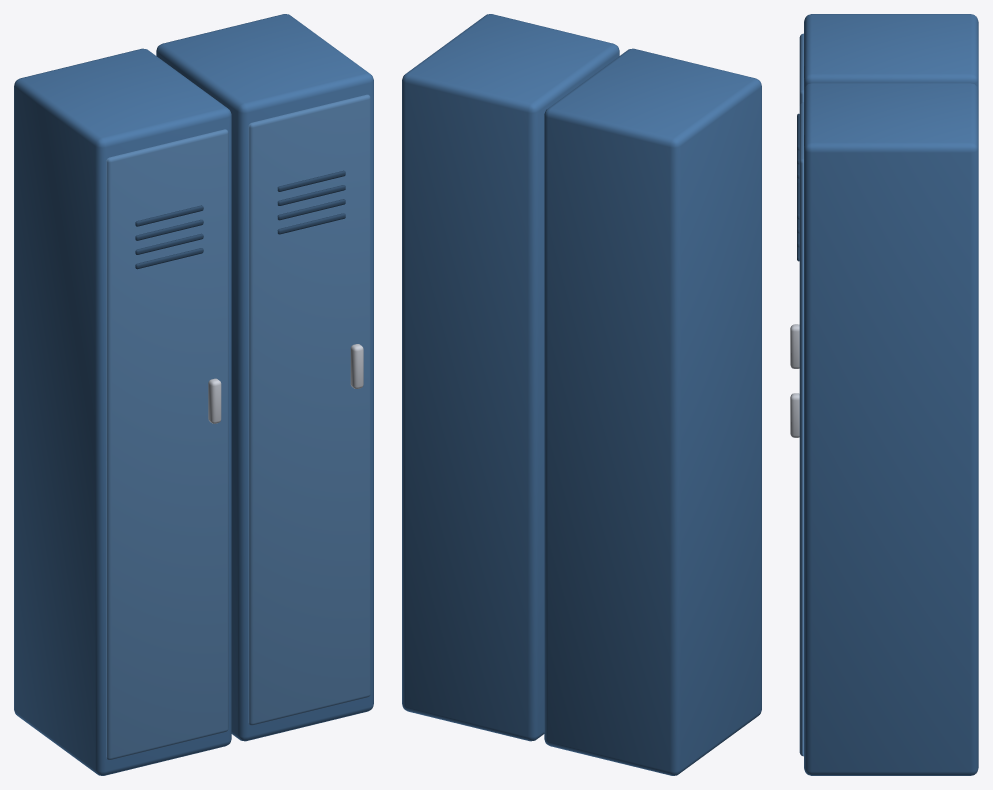
File: prop_locker.fbx
The picture shows the model from 3 angles, left to right: view 1: azimuth 30°, elevation 25°; view 2: azimuth 150°, elevation 25°; view 3: azimuth 270°, elevation 25°; orthographic projection.
Visible parts, largest first — view 1: prop_locker; view 2: prop_locker; view 3: prop_locker.
Part boxes in pixels (x1,y1,x2,y2): prop_locker: (14,14,373,775); prop_locker: (402,14,761,775); prop_locker: (790,14,978,775).
Size of the model in its own units: 0.82 by 1.8 by 0.485.
